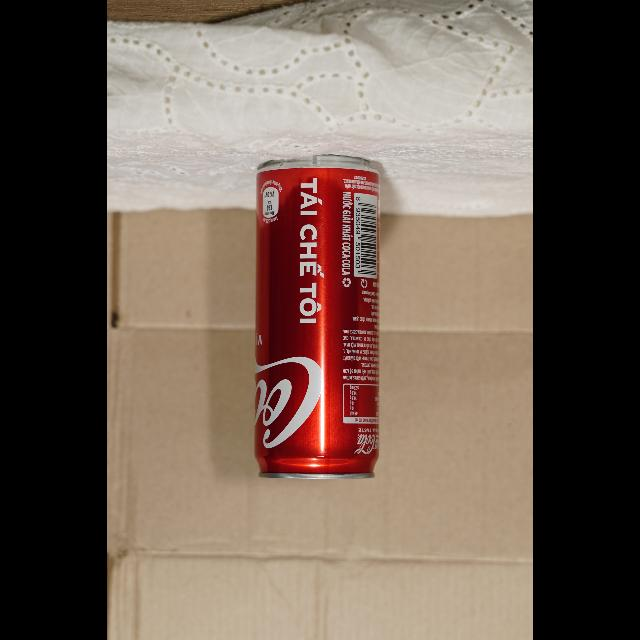coca_cola: (253, 156, 381, 480)
